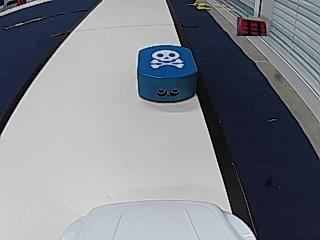danger: (151, 50, 184, 69)
